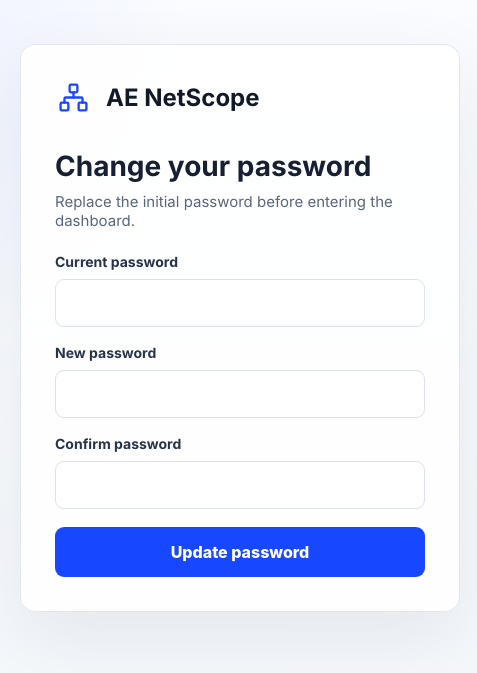
Test: ChangePasswordScreen › rejects mismatched passwords locally
This screenshot has width=477, height=673.
Type "old-secure-password" into the password field labelled "Current password".
click(240, 303); type("old-secure-password")  # box [55,279,425,327]
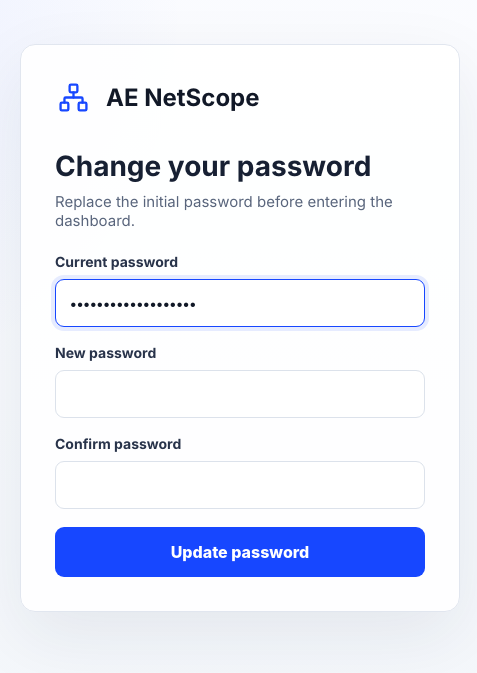
Type "new-secure-password" into the password field labelled "New password".
click(240, 394); type("new-secure-password")  # box [55,370,425,418]
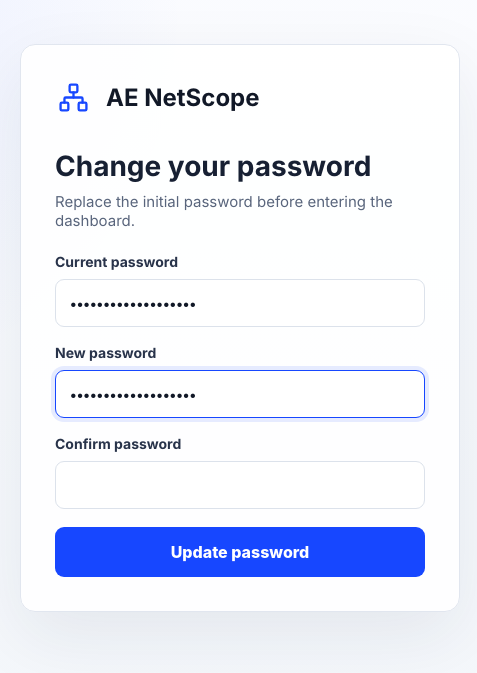
Type "different-password" into the password field labelled "Confirm password".
click(240, 485); type("different-password")  # box [55,461,425,509]
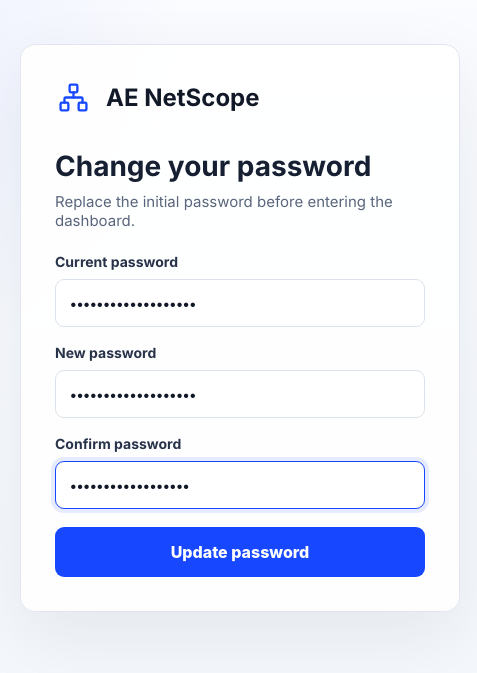
Click the button "Update password".
click(240, 552)  # box [55,527,425,577]
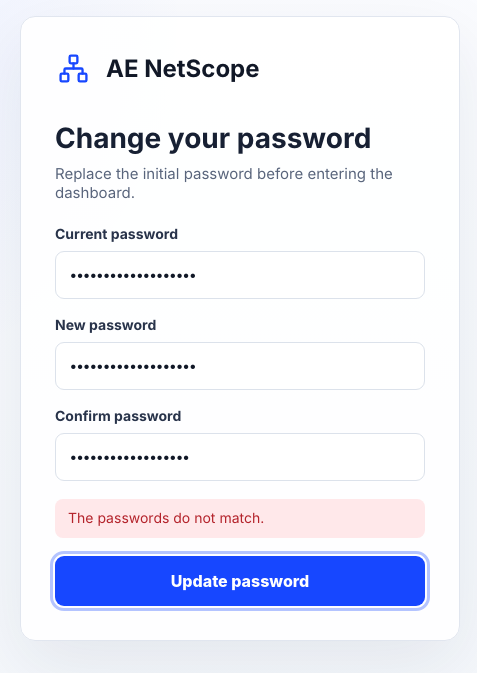
Result: the text "The passwords do not match." is shown at [55,498,425,538]
